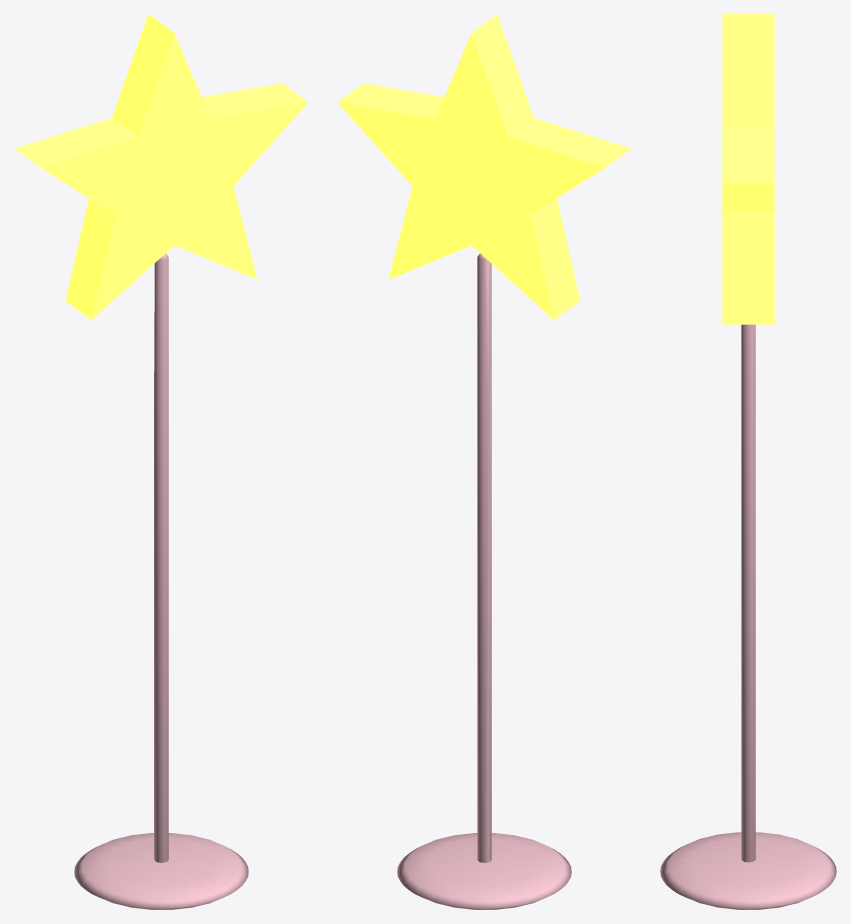
Rendered from deco_lampara_estrella.glb.
3 views of the same model, side by side, from view 1: azimuth 30°, elevation 25°; view 2: azimuth 150°, elevation 25°; view 3: azimuth 270°, elevation 25° (orthographic).
Parts seen in each view (by area): view 1: estrella lámpara.001, base lámpara estrella.001, palo estrella.001; view 2: estrella lámpara.001, base lámpara estrella.001, palo estrella.001; view 3: estrella lámpara.001, base lámpara estrella.001, palo estrella.001.
Part boxes in pixels (left/top/right/bottom): estrella lámpara.001: left=15, top=14, right=308, bottom=319; base lámpara estrella.001: left=74, top=833, right=248, bottom=909; palo estrella.001: left=154, top=253, right=168, bottom=862; estrella lámpara.001: left=337, top=14, right=630, bottom=319; base lámpara estrella.001: left=397, top=833, right=571, bottom=909; palo estrella.001: left=477, top=253, right=491, bottom=862; estrella lámpara.001: left=722, top=14, right=774, bottom=324; base lámpara estrella.001: left=660, top=832, right=836, bottom=909; palo estrella.001: left=741, top=324, right=755, bottom=862.
Size of the model in its own units: 0.4755 by 1.45 by 0.2678.
